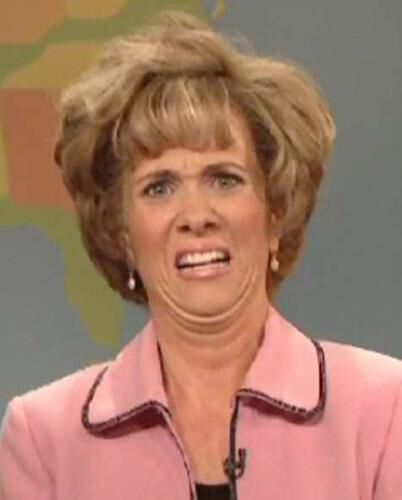confused: (125, 153, 272, 318)
